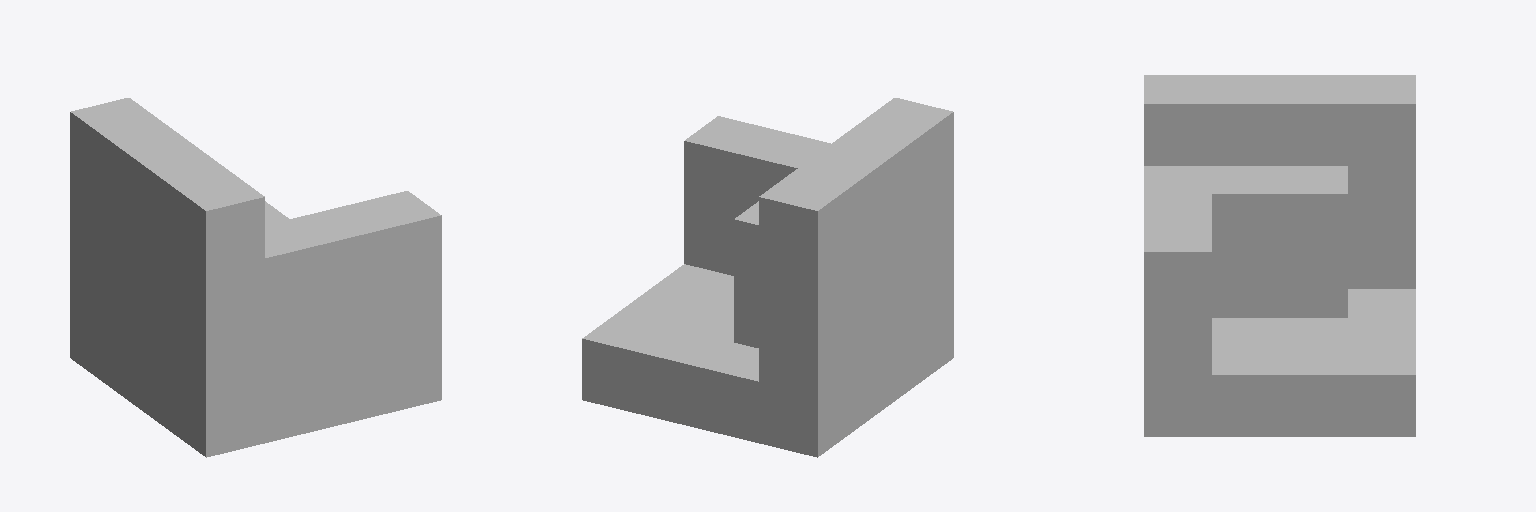
Rendered from pieza1.obj.
The picture shows the model from 3 angles: view 1: azimuth 30°, elevation 25°; view 2: azimuth 150°, elevation 25°; view 3: azimuth 270°, elevation 25°; orthographic projection.
Visible parts, largest first — view 1: Pieza1; view 2: Pieza1; view 3: Pieza1.
Boxes of the visible parts, <box> form: Pieza1: <box>70,98,441,457</box>; Pieza1: <box>582,98,953,457</box>; Pieza1: <box>1144,75,1415,436</box>.
Bounding box in the file's own units: 40 × 40 × 40.